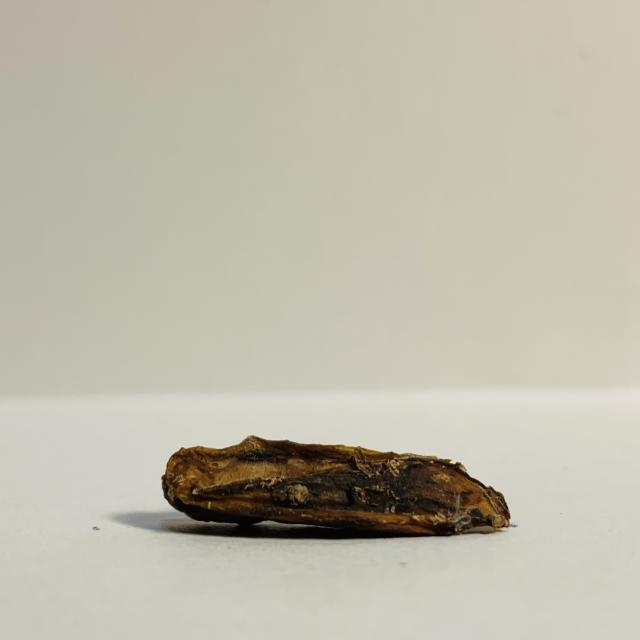Flat_cocoabeans: (67, 396, 589, 608)
